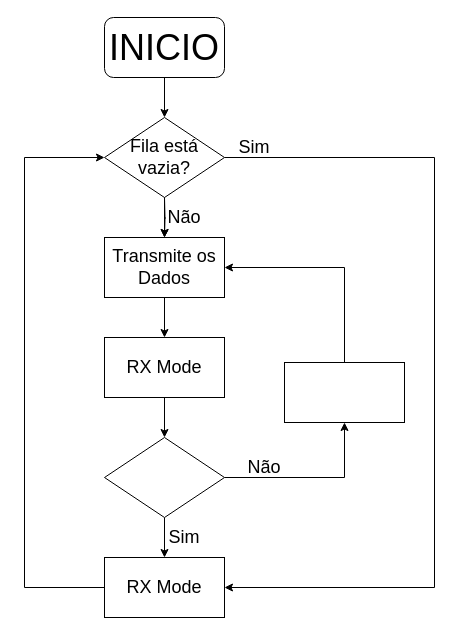
This 460x635 diagram has some shape labels left out. Here are the shapes that lost their labels. From the top down, the centre of each, then its label:
At (344,392): "Espera um tempo aleatório".
At (164,477): "Recebeu ACK?".
